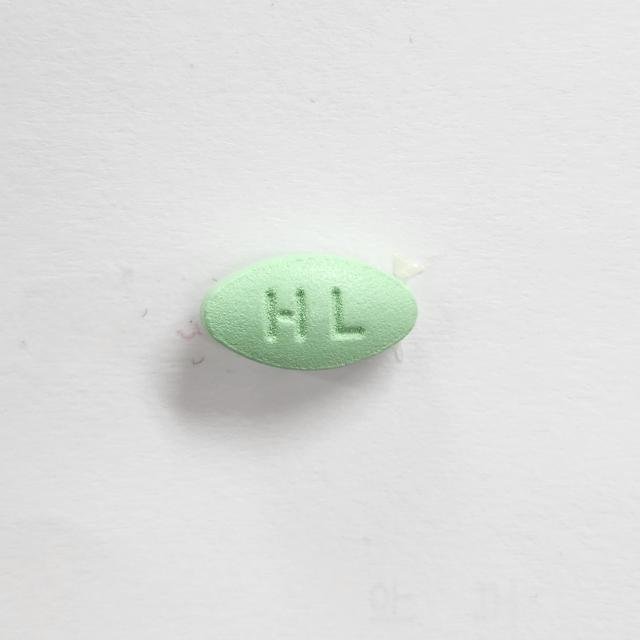pill: (199, 248, 422, 374)
